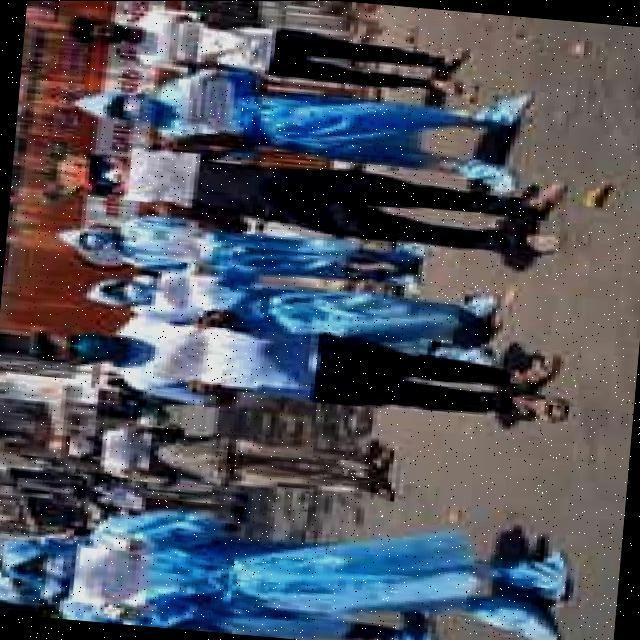apron: (102, 512, 158, 552), (94, 588, 142, 630)
mask: (44, 536, 80, 580), (73, 324, 119, 358), (124, 84, 160, 125), (84, 226, 108, 248), (126, 272, 143, 296)
